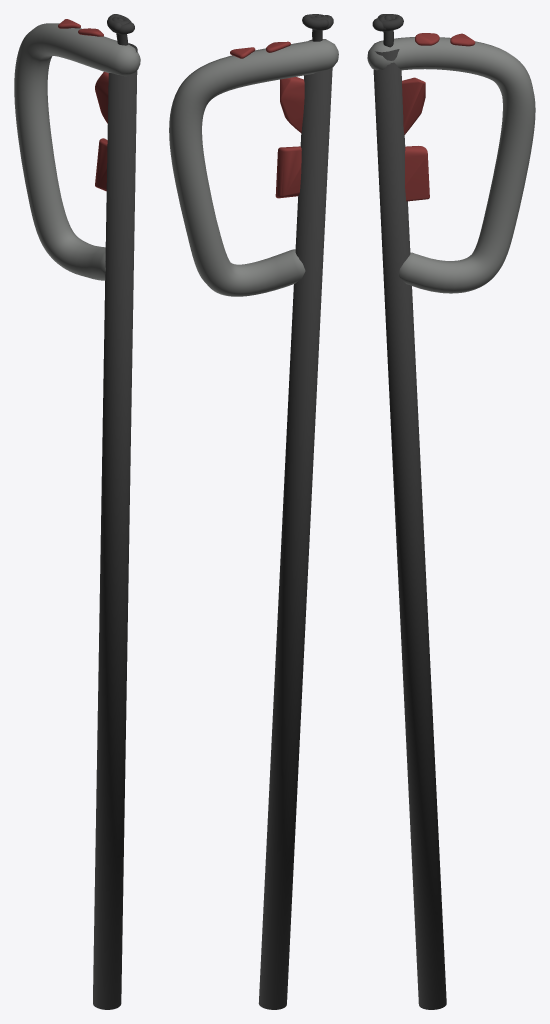
Rendered from MYASSETlever.fbx.
3 renders of one model, left to right at view 1: azimuth 90°, elevation 25°; view 2: azimuth 150°, elevation 25°; view 3: azimuth 330°, elevation 25°, orthographic. The views are drawn at different scales.
Visible parts, largest first — view 1: p.0026, s.0028, s.0034, s.0033, s.0031; view 2: p.0026, s.0028, s.0034, s.0033, s.0031; view 3: p.0026, s.0028, s.0034, s.0033, s.0031.
Boxes of the visible parts, x1,y1,x2,y2 form: p.0026: (93, 43, 137, 1009); s.0028: (14, 23, 140, 280); s.0034: (95, 138, 107, 191); s.0033: (95, 72, 108, 123); s.0031: (107, 14, 134, 34); p.0026: (258, 39, 332, 1009); s.0028: (169, 39, 338, 296); s.0034: (275, 146, 301, 198); s.0033: (280, 77, 304, 133); s.0031: (302, 14, 333, 30); p.0026: (373, 49, 446, 1009); s.0028: (367, 37, 535, 293); s.0034: (405, 146, 429, 201); s.0033: (402, 77, 425, 134); s.0031: (372, 14, 403, 31).
Size of the model in its own units: 10.42 by 9.46 by 82.96.
